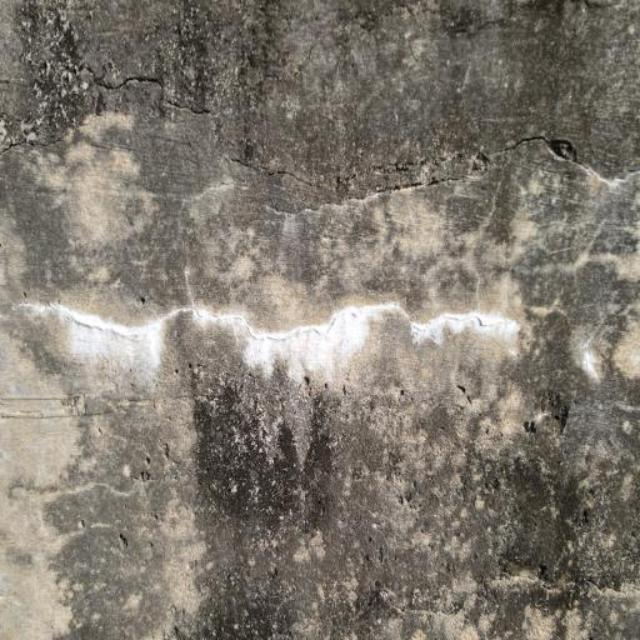D01: (22, 302, 525, 377)
